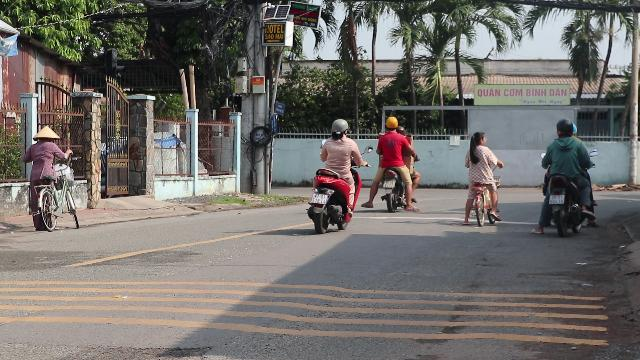helmet: (554, 118, 574, 138), (329, 118, 348, 138)
licenseplate: (312, 194, 328, 204), (550, 195, 564, 204)
motorcyclist: (535, 118, 597, 236), (305, 117, 361, 233)
